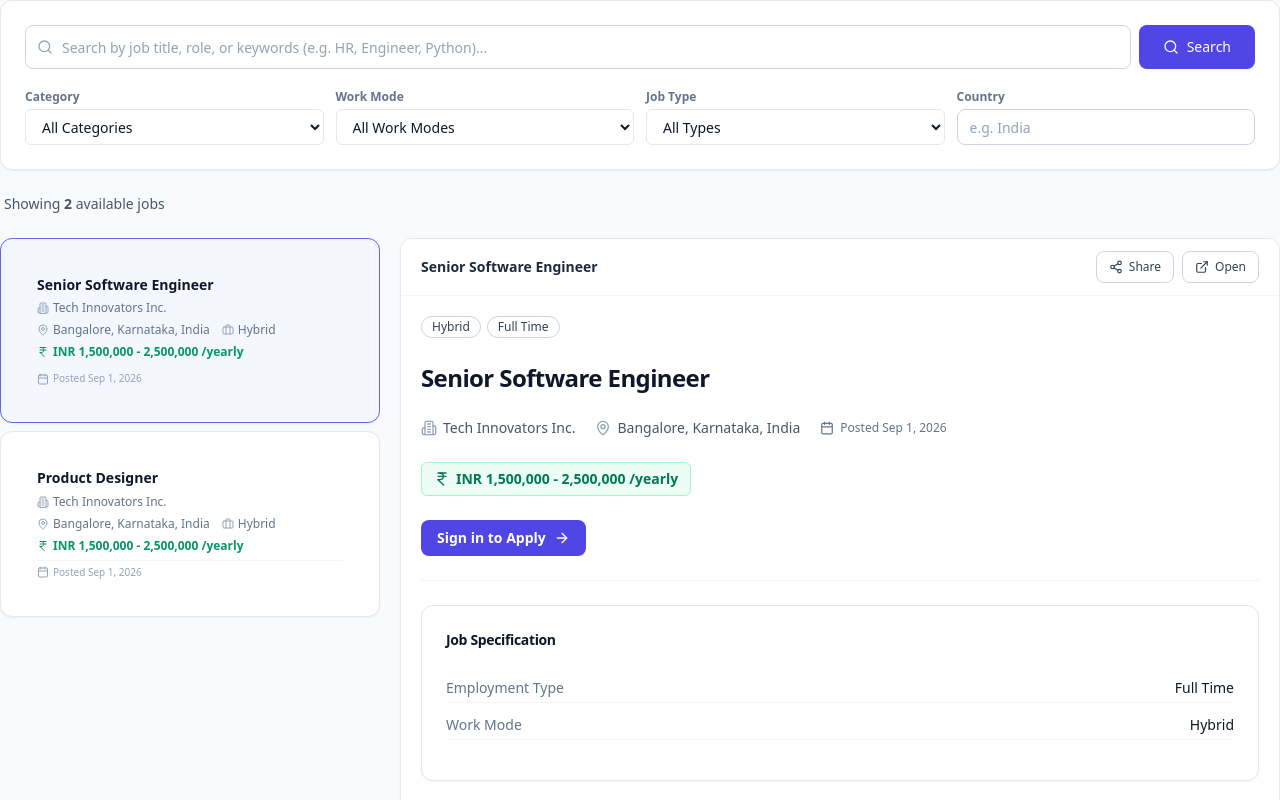
it: Public Jobs Listing & Discovery Suite › 11. clicking a card selects it and shows its title in the detail pane
The width and height of the screenshot is (1280, 800).
Expected: the 1st heading "Senior Software Engineer" is shown, [37,275,214,294]
Expected: the heading "Product Designer" is shown, [37,468,158,487]
Click the second card
Click the element with test id "public-job-card" that starts with "Product Designer" at (190, 524), box [0,431,380,617]
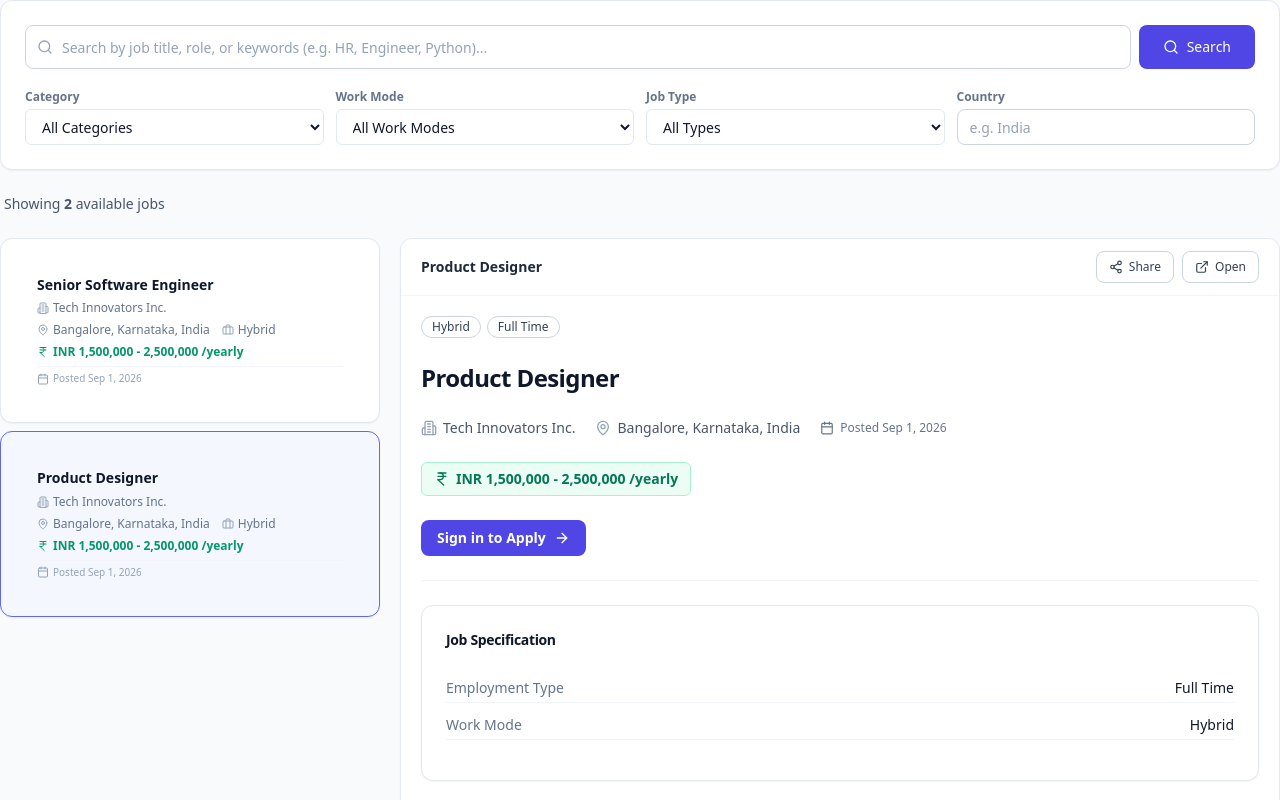
Result: the text with test id "detail-pane-job-title" reads "Product Designer" at [421,257,542,276]
